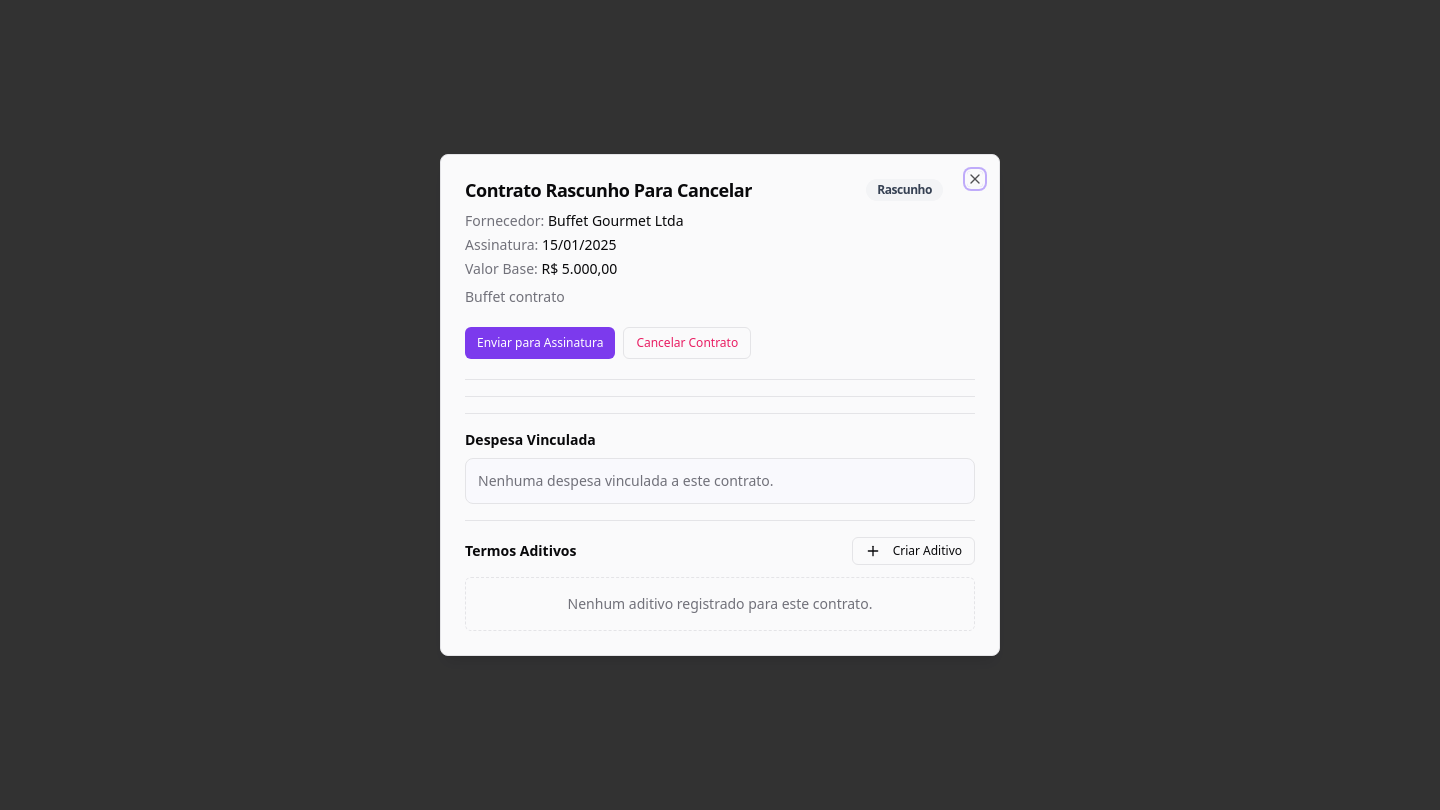
it: ContractDetailDialog › opens CancelContractDialog when clicking Cancelar Contrato on a DRAFT contract
Click the button "Cancelar Contrato". click: x=687, y=343
box: 623,327 -> 751,359
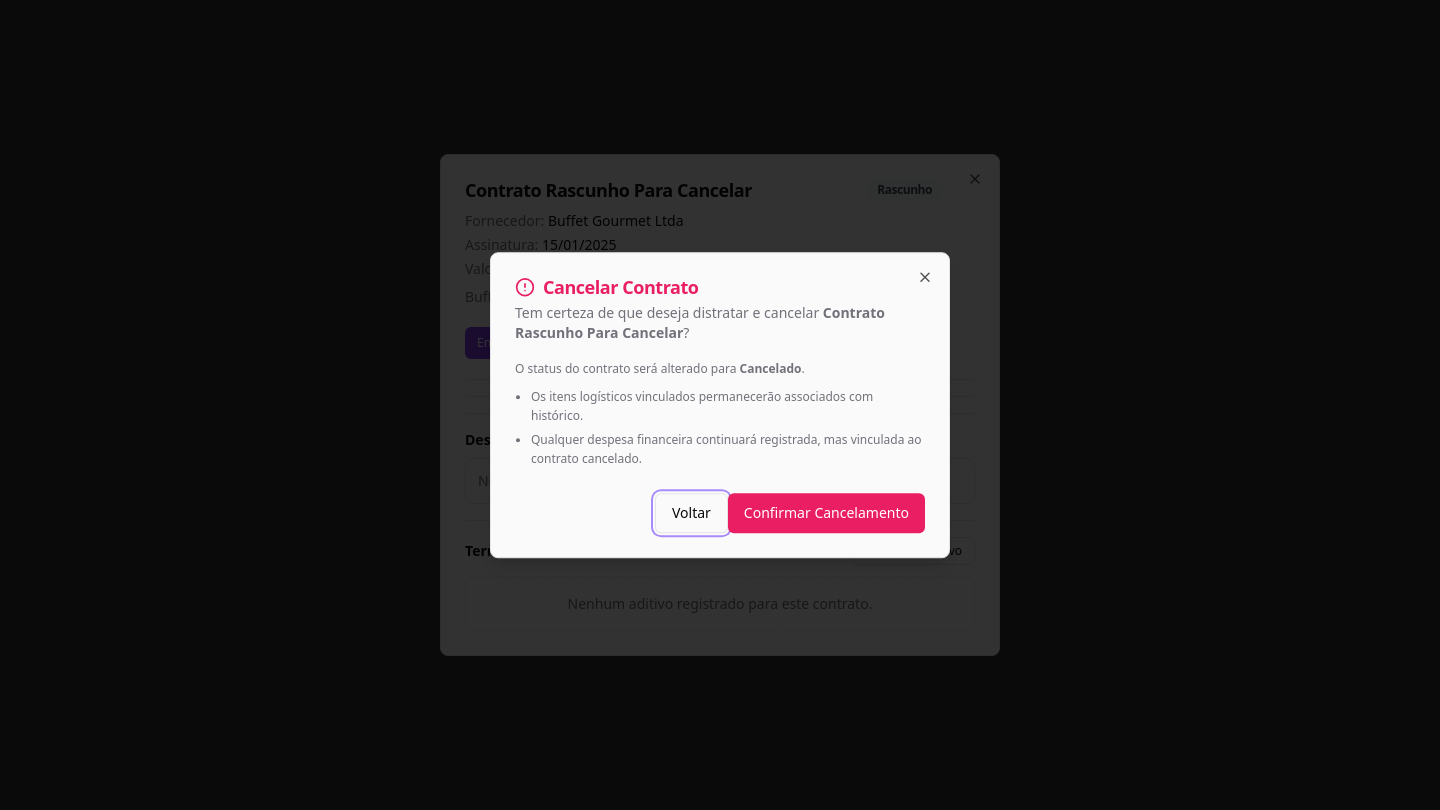
Expected: the heading "Cancelar Contrato" is shown, 515,275 -> 698,299
